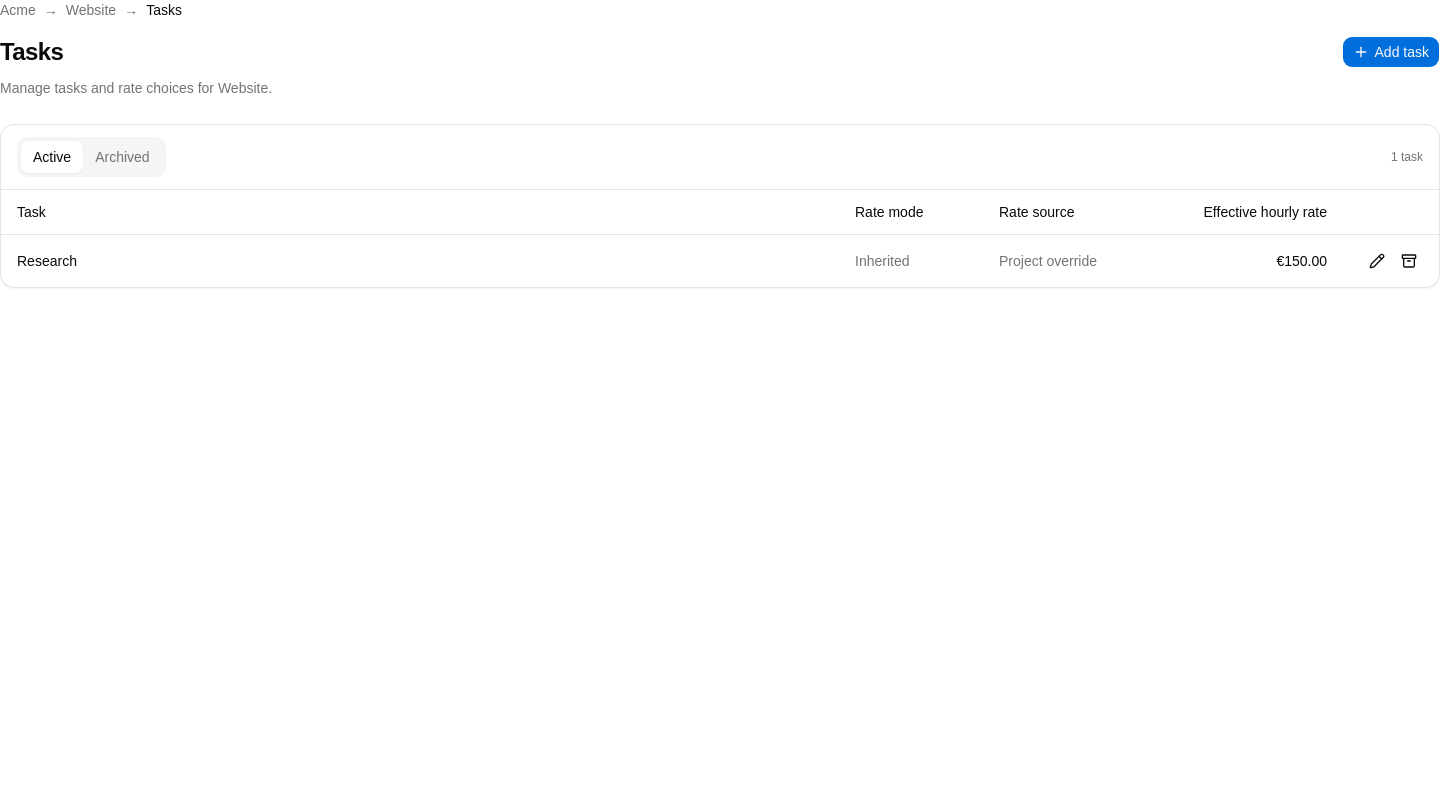
Test: archives only the selected Task after an exact confirmation
Expected: the text "Research" is shown, [1,234,847,286]
Click the button named "Archive Research". click: click(1409, 260)
box: [1395,246,1423,274]
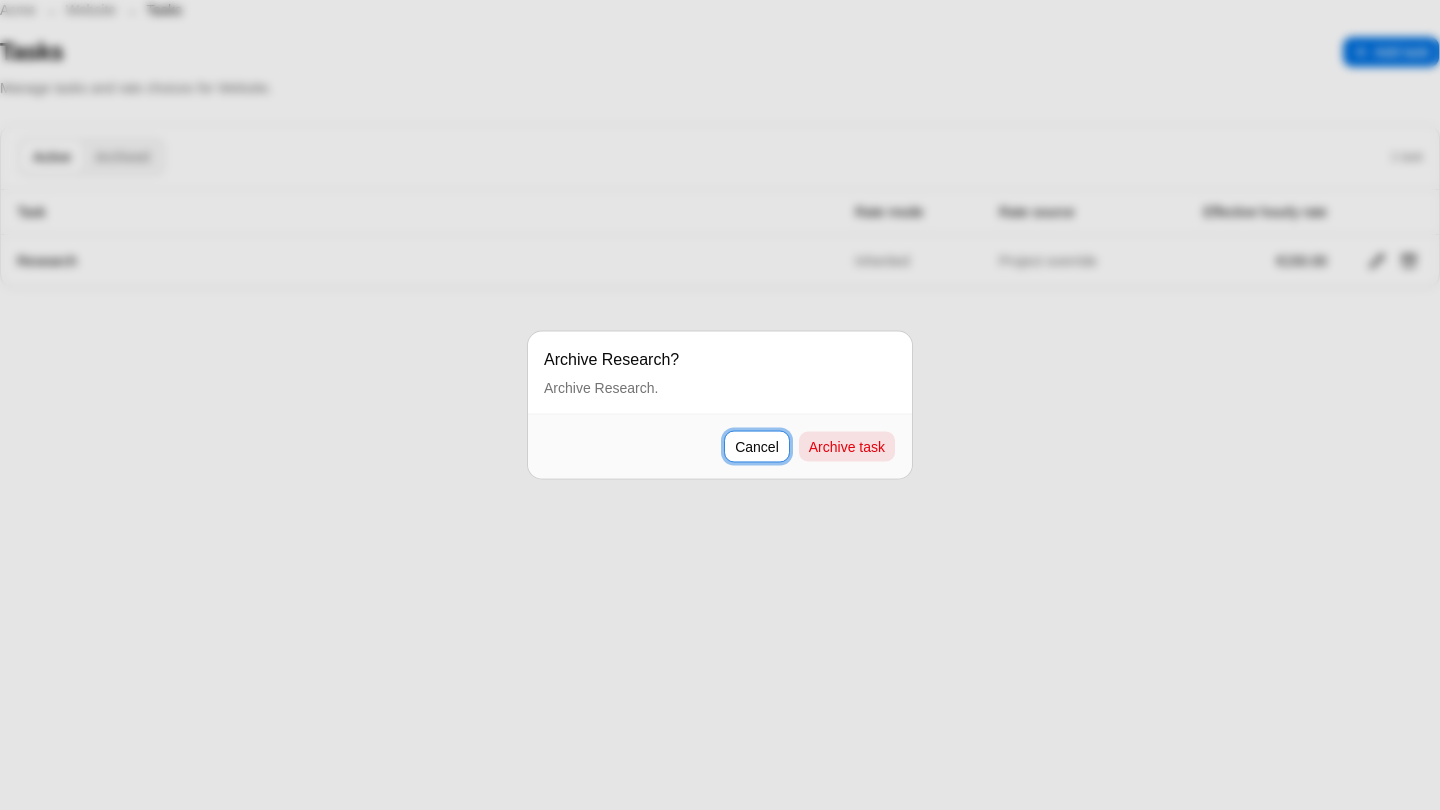
Now the dialog shows "Archive Research?", box [544,380,658,396]
Now the dialog shows "Archive Research.", box [544,380,658,396]
Click the button "Archive task". click: click(847, 446)
box: [798,430,896,462]
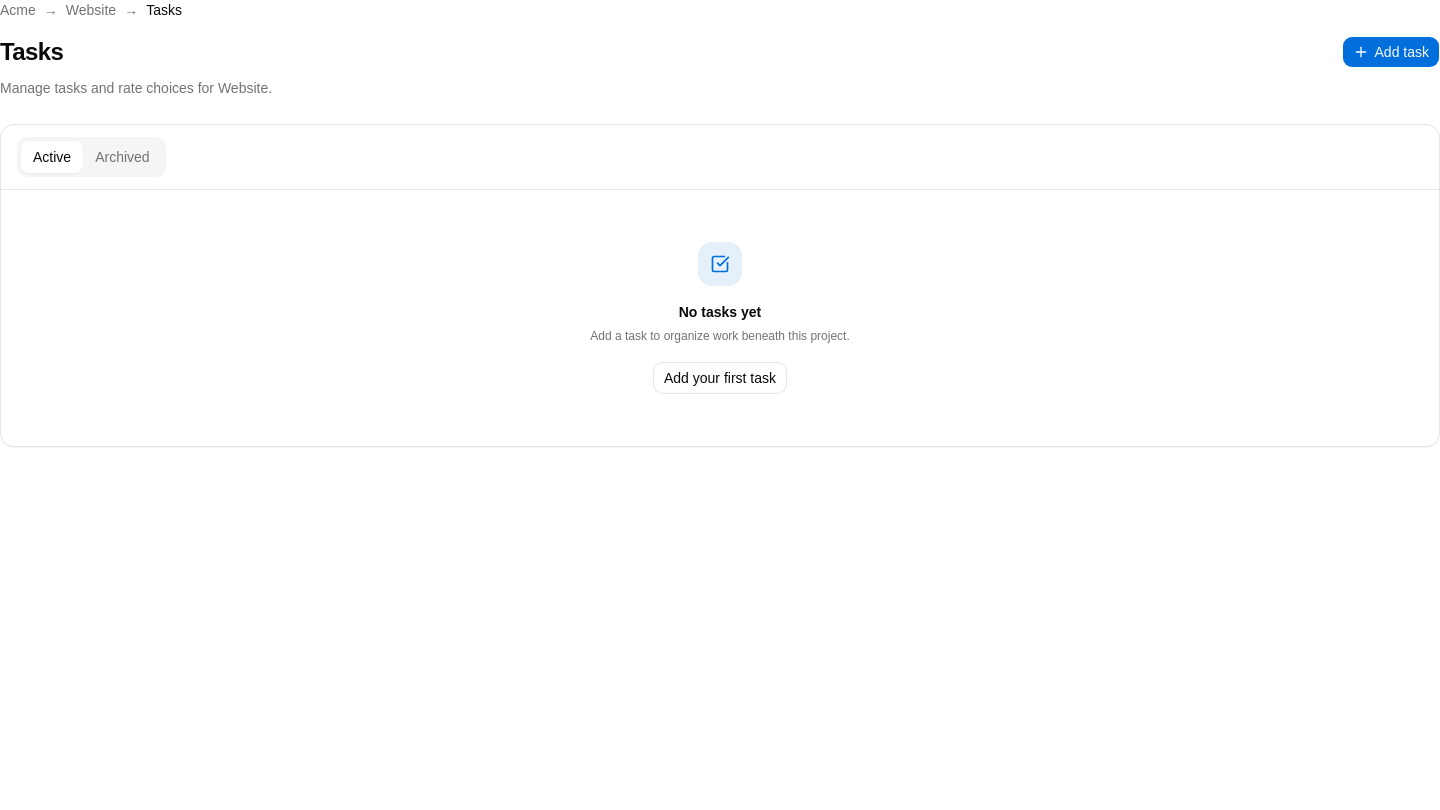
Now the heading "No tasks yet" is shown, box [679,302,761,322]
